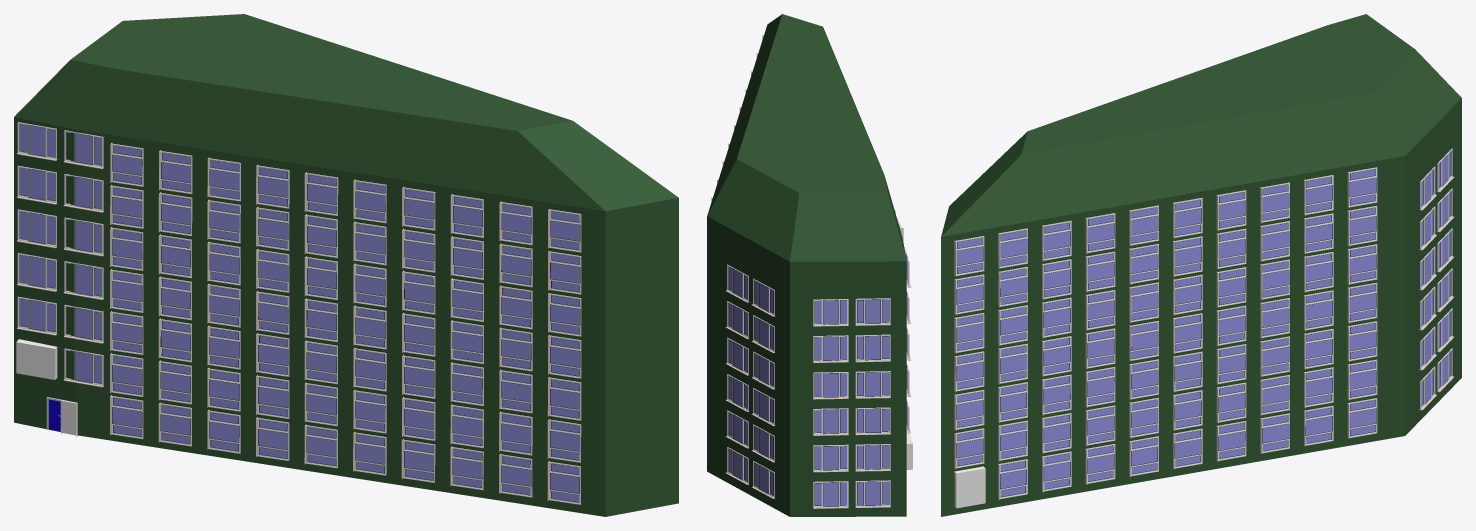
Rendered from ArcadiumComplexII.fbx.
3 views of the same model, side by side, from view 1: azimuth 30°, elevation 25°; view 2: azimuth 150°, elevation 25°; view 3: azimuth 270°, elevation 25° (orthographic). The views are drawn at different scales.
Visible parts, largest first — view 1: ArcadiumComplexII, Window.001, Window.002, CTRL_Hole.002; view 2: ArcadiumComplexII, Window.003, Window.004, Window.002; view 3: ArcadiumComplexII, Window, Window.004, CTRL_Hole.
Part boxes in pixels (left/top/right/bottom): ArcadiumComplexII: left=14, top=14, right=678, bottom=516; Window.001: left=110, top=143, right=581, bottom=504; Window.002: left=17, top=122, right=103, bottom=387; CTRL_Hole.002: left=16, top=339, right=57, bottom=379; ArcadiumComplexII: left=707, top=14, right=906, bottom=516; Window.003: left=813, top=298, right=890, bottom=508; Window.004: left=725, top=264, right=775, bottom=498; Window.002: left=903, top=242, right=911, bottom=469; ArcadiumComplexII: left=941, top=14, right=1461, bottom=516; Window: left=954, top=167, right=1377, bottom=507; Window.004: left=1419, top=148, right=1454, bottom=410; CTRL_Hole: left=954, top=466, right=985, bottom=508.
Size of the model in its own units: 2865 by 2398 by 3372.
